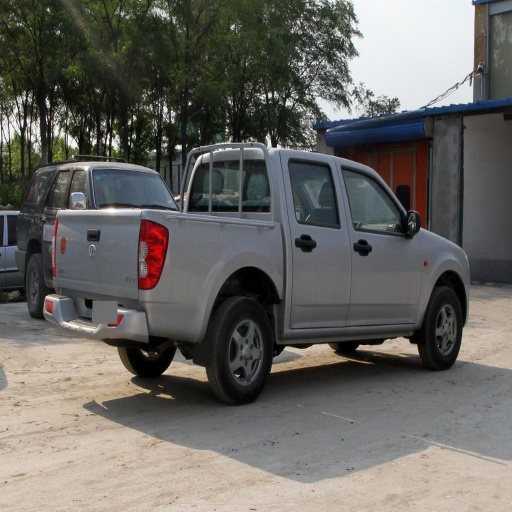back_right_door: (285, 156, 351, 324), (55, 168, 91, 211)
trunk: (66, 208, 285, 343)
